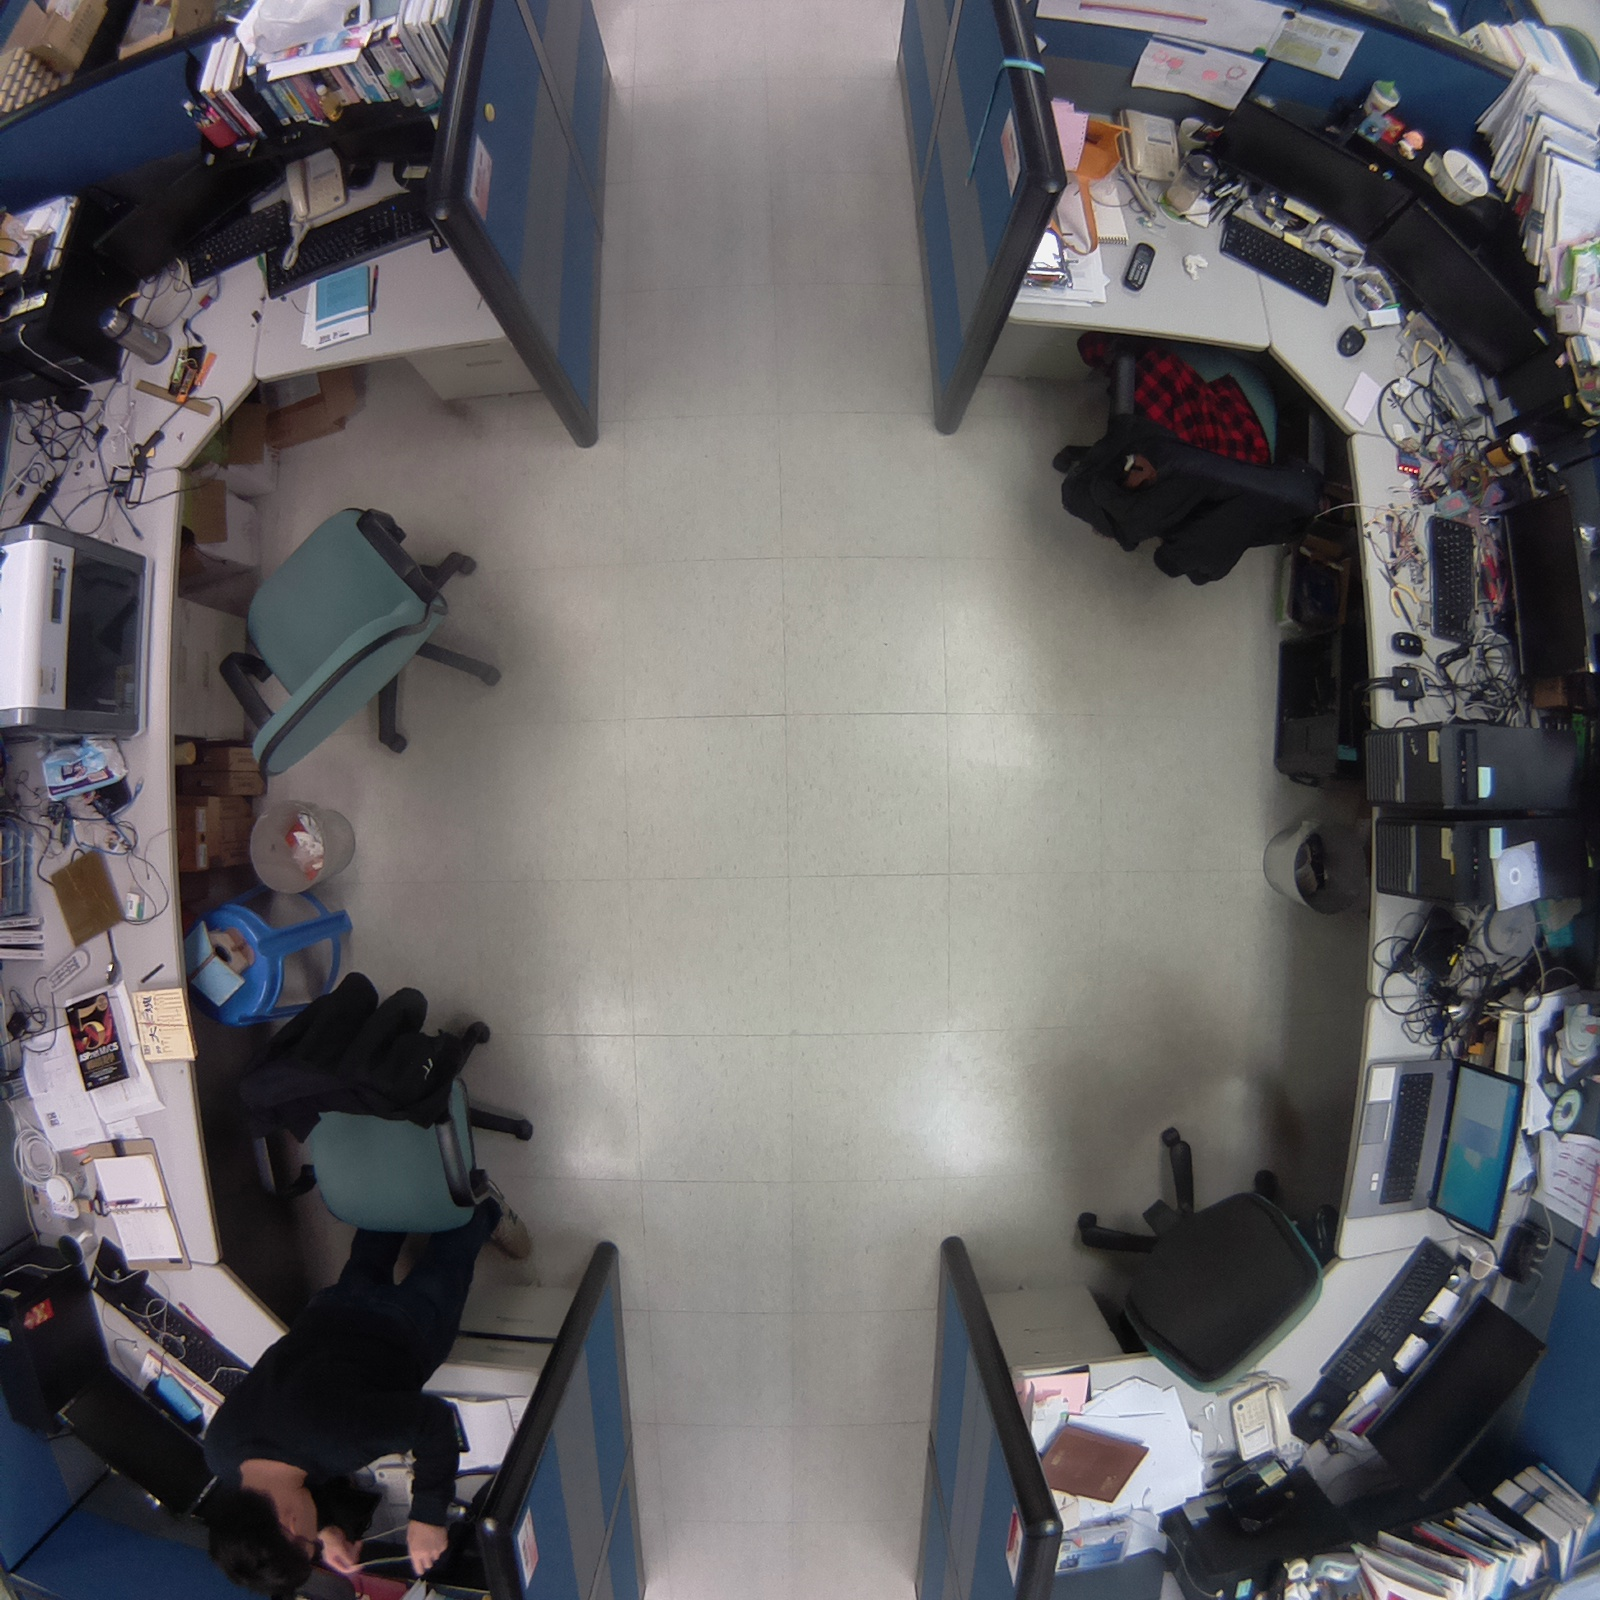chair: (210, 475, 526, 807), (229, 958, 568, 1251), (1043, 302, 1363, 607), (1039, 1097, 1339, 1411)
standing: (166, 1175, 541, 1600)
